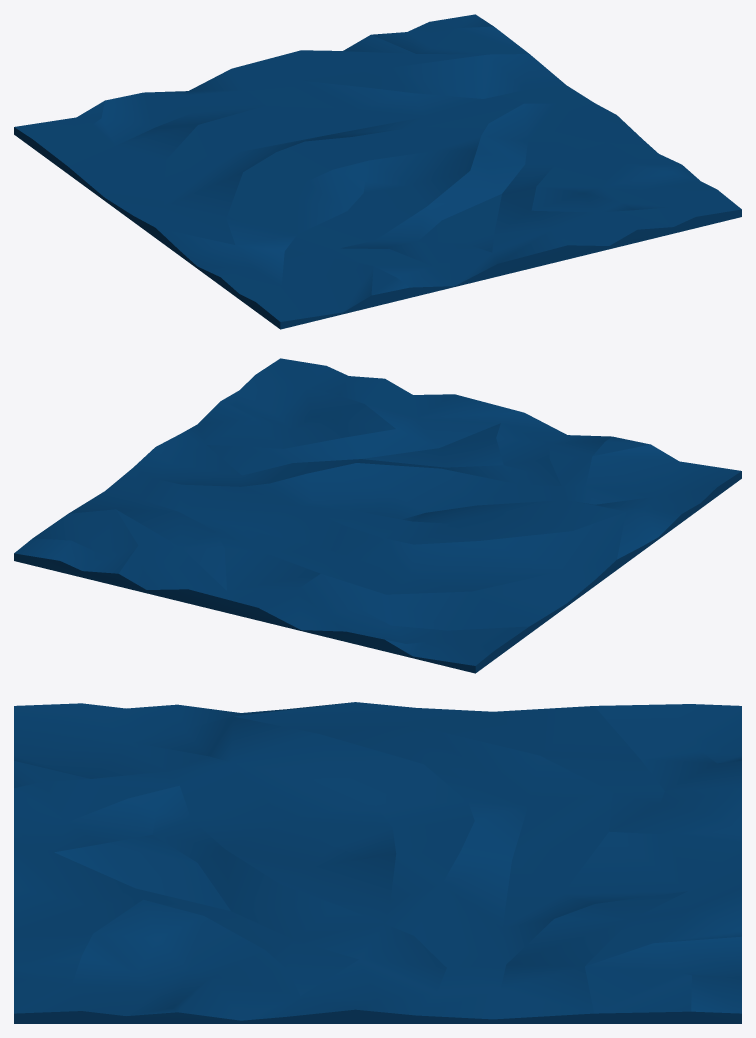
File: Water_Base.fbx
The picture shows the model from 3 angles, top to bottom: view 1: azimuth 30°, elevation 25°; view 2: azimuth 150°, elevation 25°; view 3: azimuth 270°, elevation 25°; orthographic projection. The views are drawn at different scales.
Visible parts, largest first — view 1: Water_Base; view 2: Water_Base; view 3: Water_Base.
Part boxes in pixels (x1=…): Water_Base: x1=14, y1=14, x2=741, y2=329; Water_Base: x1=14, y1=358, x2=741, y2=673; Water_Base: x1=14, y1=702, x2=741, y2=1023.
Size of the model in its own units: 147 by 6.19 by 147.
